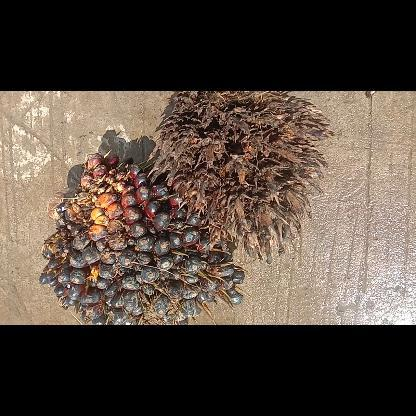Janjang kosong: (147, 90, 333, 262)
TBS mentah: (40, 150, 248, 324)
